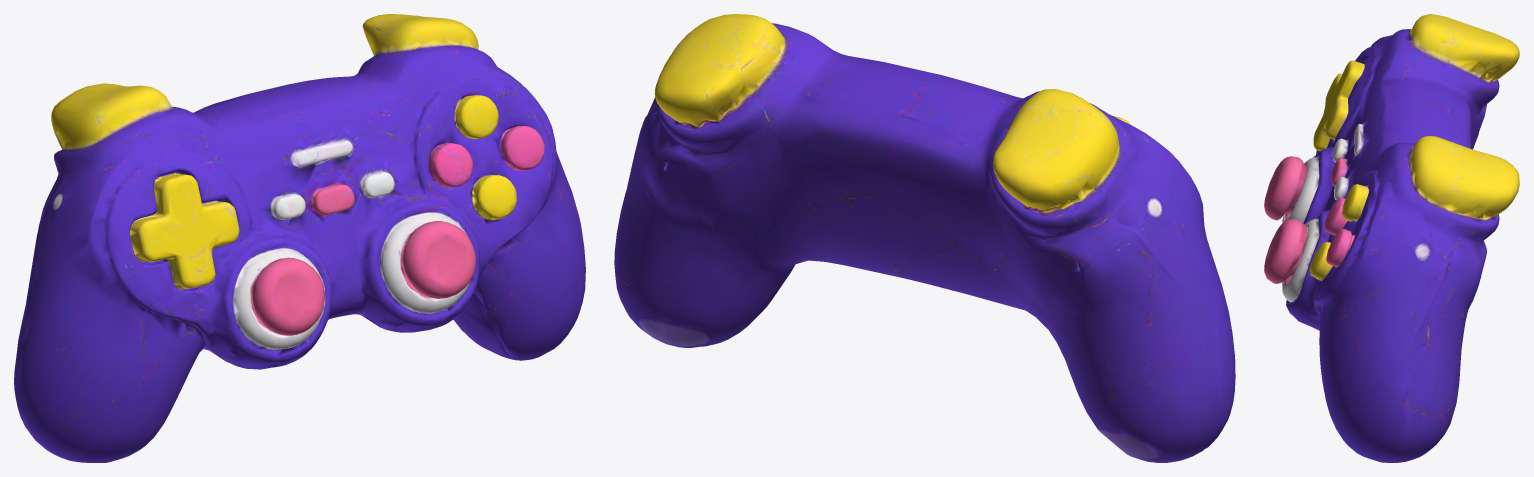
Rendered from pengendali.glb.
3 renders of one model, left to right at view 1: azimuth 30°, elevation 25°; view 2: azimuth 150°, elevation 25°; view 3: azimuth 270°, elevation 25°, orthographic. The views are drawn at different scales.
Size of the model in its own units: 1.9 by 1.09 by 0.8804.
1 material, 1 textured.
